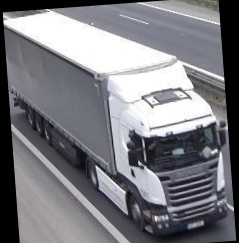truck: (3, 1, 234, 243)
